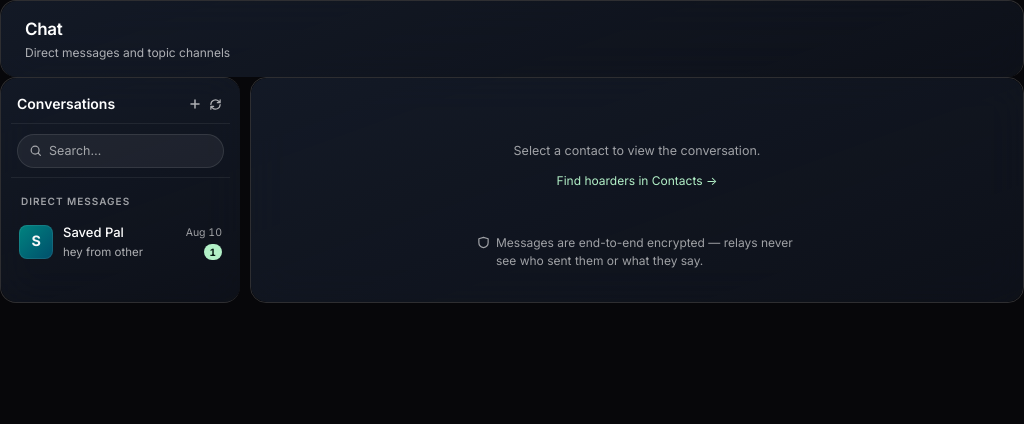
it: QURATOR-146 — a slow non-contact resolve must not override in-flight navigation › a resolve landing AFTER a sidebar conversation click does not yank the view back
The width and height of the screenshot is (1024, 424).
The text appears twice once selected (sidebar preview + thread bubble) — click the row's.
Click the text "hey from other" at (103, 252), box [63,245,143,259]
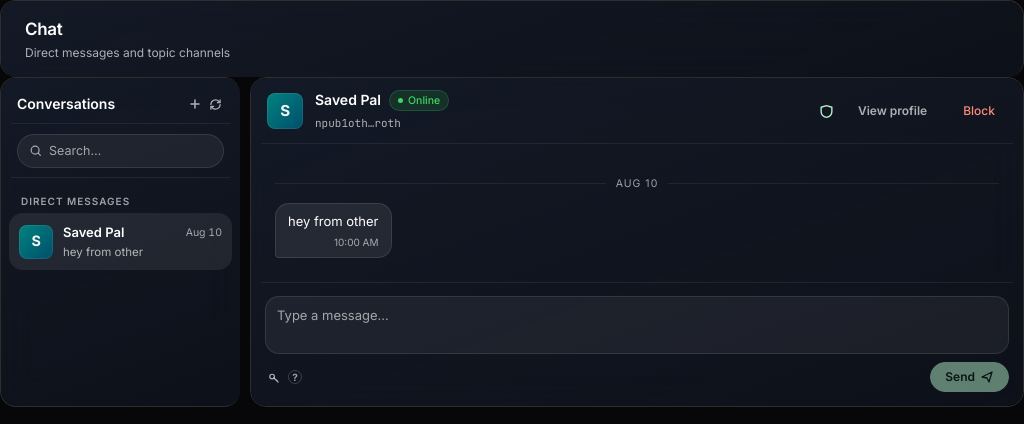
Expected: the text "Saved Pal" next to "Online" is shown, [315,92,381,108]
